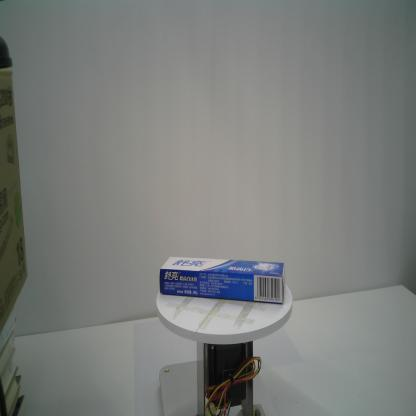Personal Hygiene: (157, 255, 287, 306)
